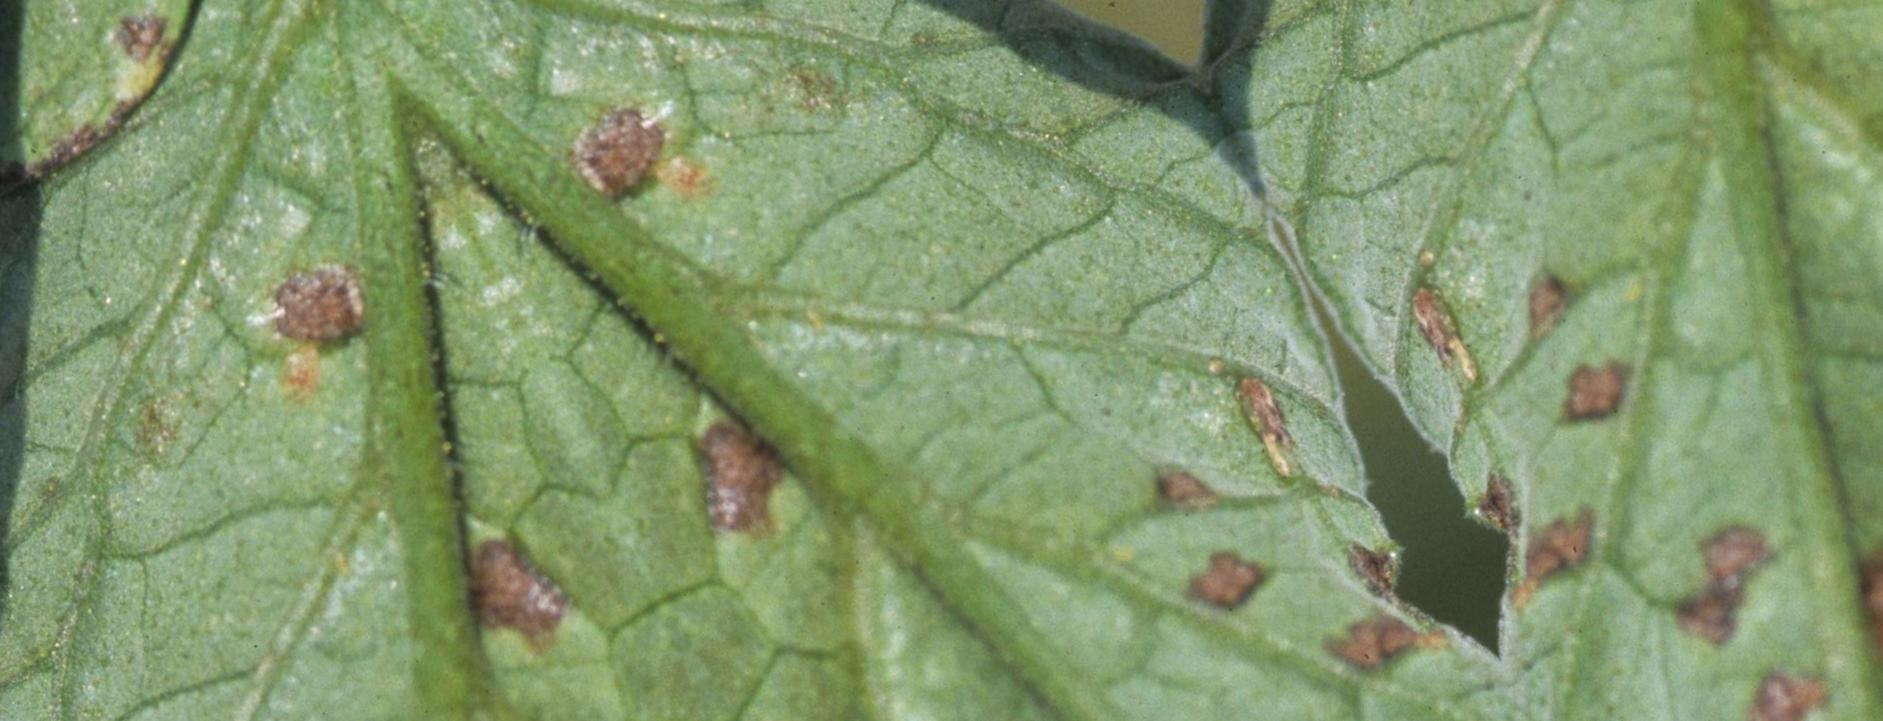Tomato leaf bacterial spot: (191, 0, 1692, 721)
